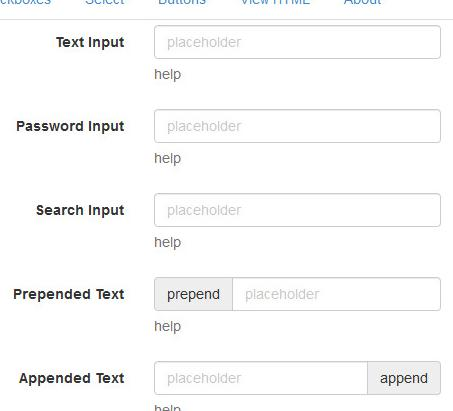field: (152, 106, 444, 147), (149, 191, 441, 230), (151, 274, 445, 312), (153, 22, 446, 60), (149, 358, 372, 400)
field_with_label: (17, 104, 446, 149), (35, 189, 443, 233), (12, 272, 448, 313), (55, 19, 450, 62), (19, 356, 374, 402)
